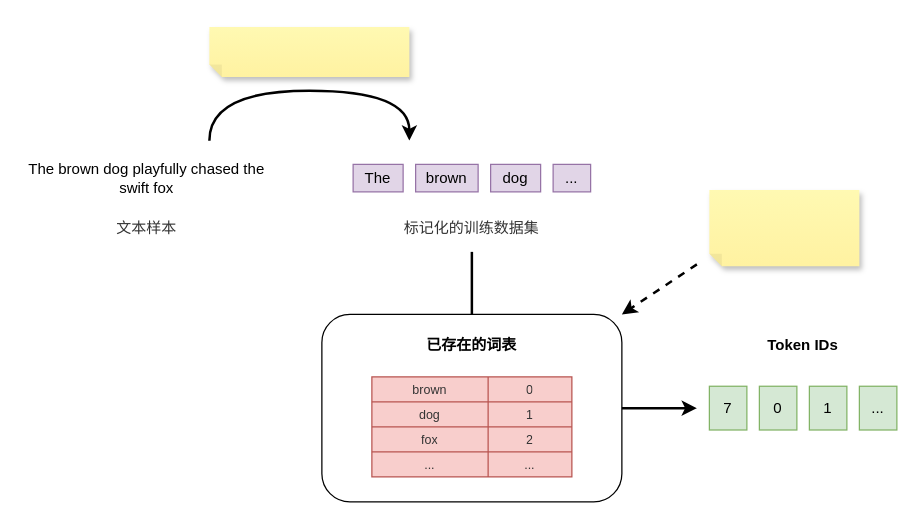
Image size: 919x524. Some labels were removed from this diagram. The shapes that lost their labels are listed below. From the top down, each one's centre as x and y in pixels, then its label:
At (310,53): "分词过程将训练数据集拆分为一个标记集合".
At (785,229): "新的标记化的文本样本会通过已存在的词表被映射为Token IDs".
